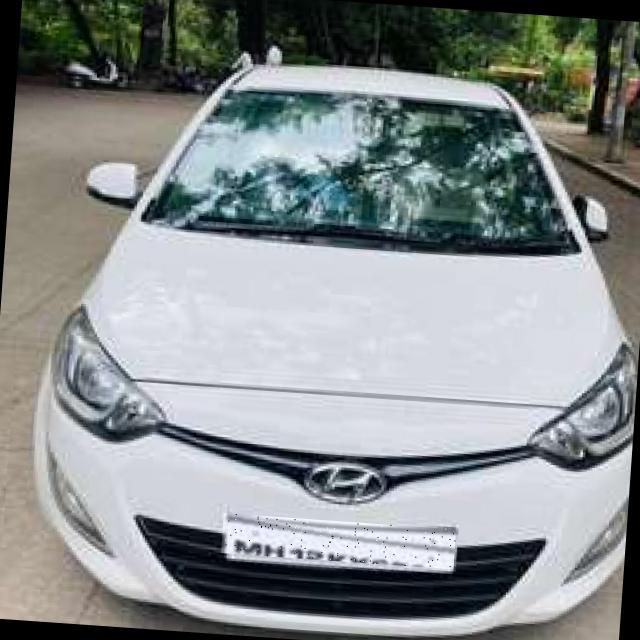Plate: (222, 514, 457, 570)
